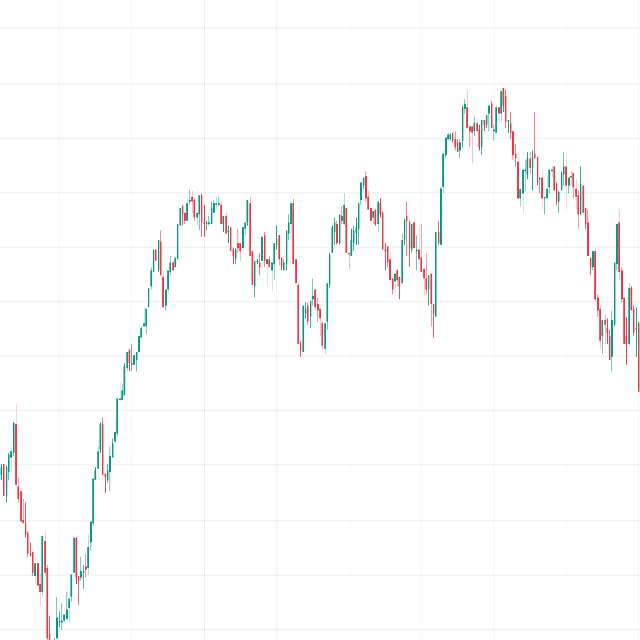Triple-Bottom: (248, 219, 290, 293)
